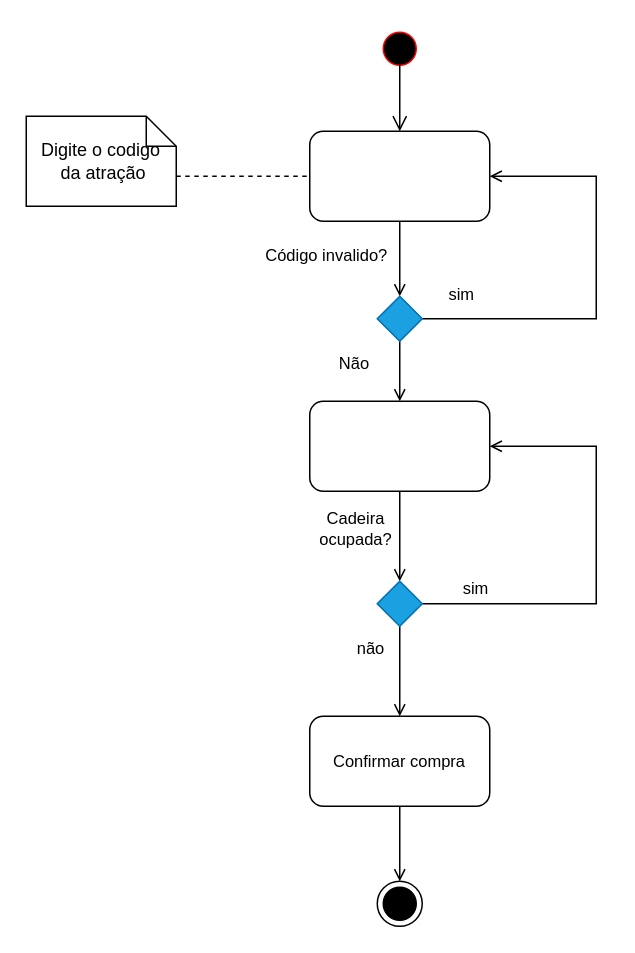
Image size: 635x953. Some labels were removed from this diagram. The shapes that lost their labels are listed below. From the top down, each one's centre as x and y in pixels, then its label:
the point at 399,175: Escolher atração
the point at 399,445: Escolher cadeira
